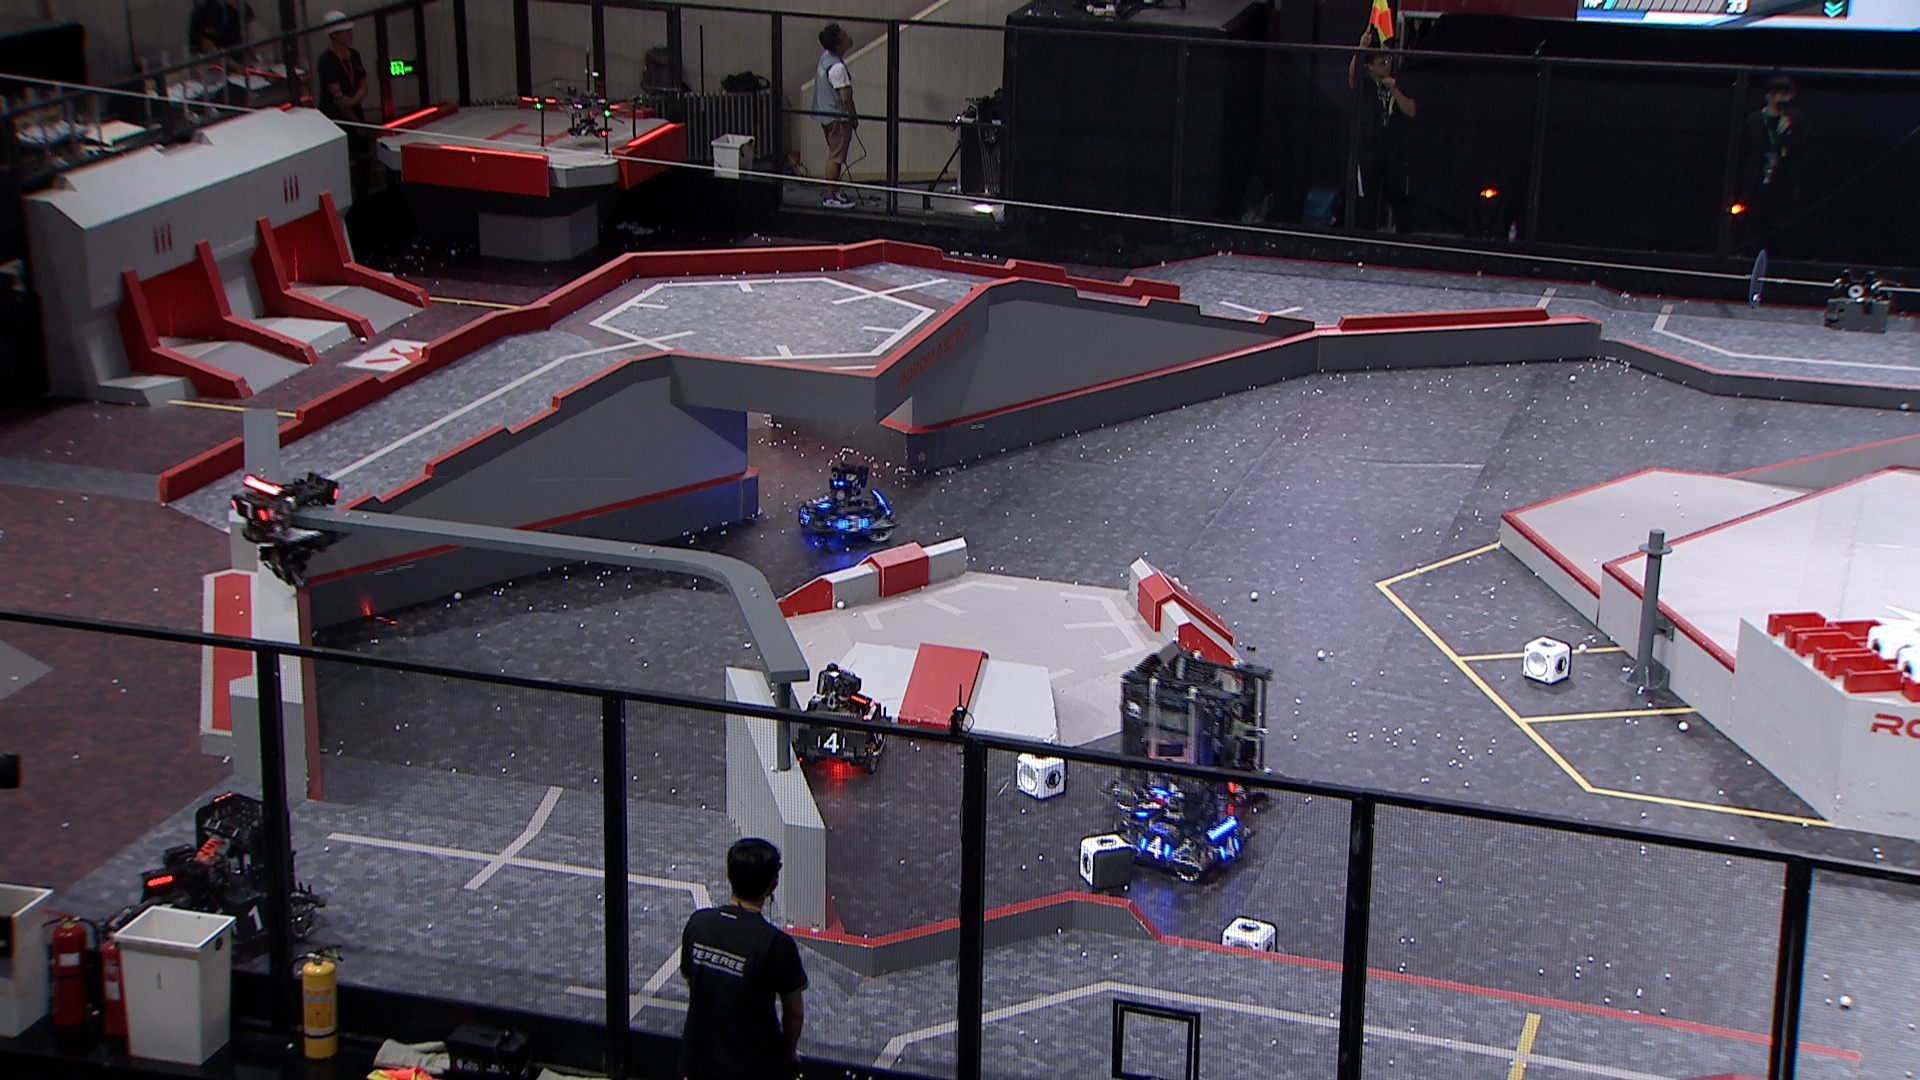armor: (225, 907, 266, 938), (1133, 793, 1168, 820), (1139, 835, 1176, 860), (229, 498, 266, 524), (816, 732, 849, 756), (1216, 833, 1242, 858), (836, 516, 870, 534), (796, 505, 814, 529), (814, 495, 832, 510)
car: (98, 793, 328, 971), (1100, 647, 1276, 816), (1106, 778, 1258, 885), (793, 662, 889, 774), (795, 462, 899, 549)
watcher: (228, 469, 343, 589)
